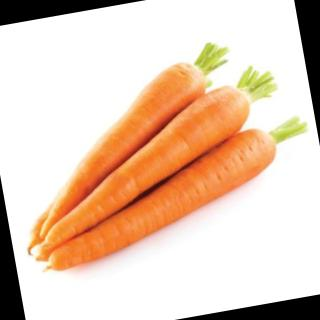Wortel: (24, 83, 270, 252), (34, 125, 293, 274), (16, 61, 230, 240)
